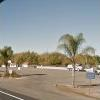Palm tree: (59, 24, 93, 91)
